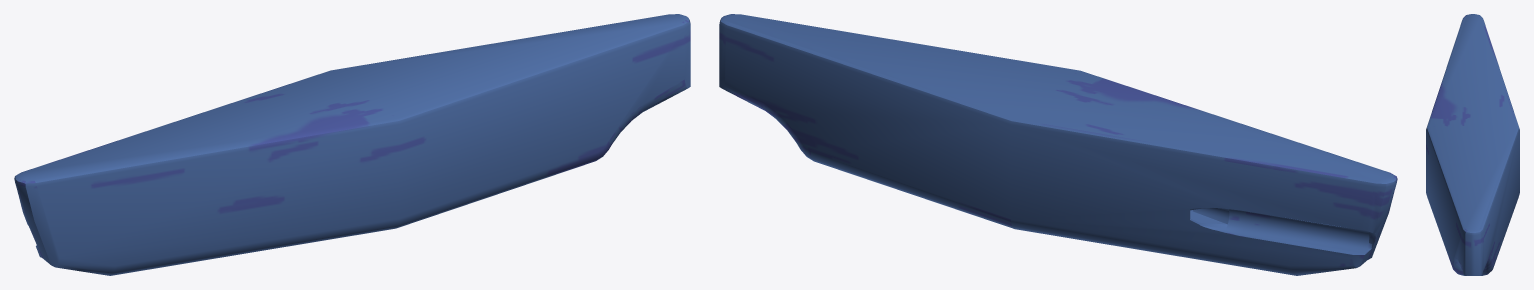
The model's file is uboat.obj.
The picture shows the model from 3 angles, left to right: view 1: azimuth 30°, elevation 25°; view 2: azimuth 150°, elevation 25°; view 3: azimuth 270°, elevation 25°; orthographic projection. The views are drawn at different scales.
Parts seen in each view (by area): view 1: Cube; view 2: Cube; view 3: Cube.
Part boxes in pixels (x1,y1,x2,y2): Cube: [14, 14, 690, 275]; Cube: [719, 14, 1397, 275]; Cube: [1426, 14, 1519, 275].
Size of the model in its own units: 45.21 by 7.3 by 8.17.
Materials: 2 (2 with a texture image).
